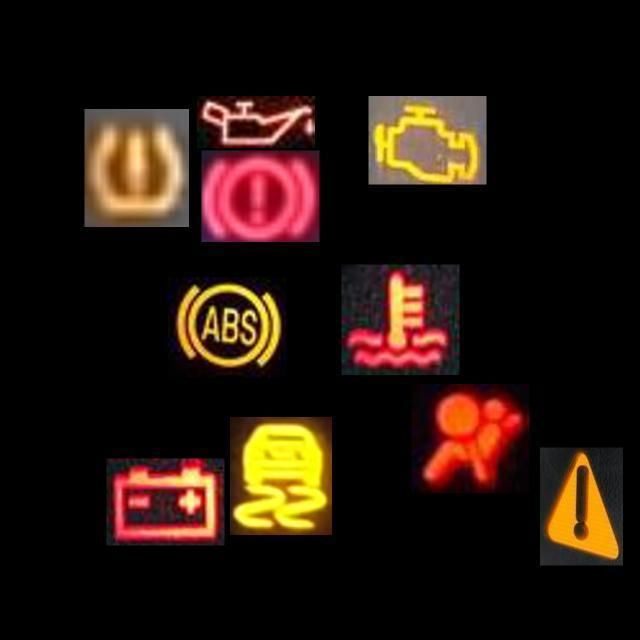Central Warning lamp: (540, 448, 623, 566)
Engine cooling system: (342, 264, 459, 376)
